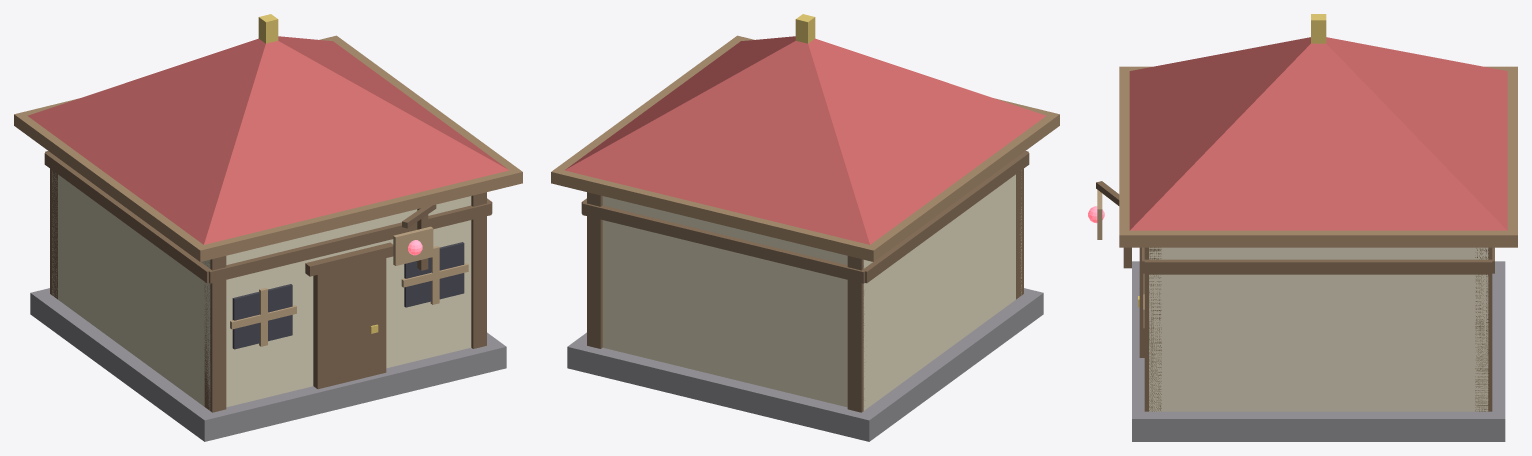
File: shop_building.glb
3 renders of one model, left to right at view 1: azimuth 30°, elevation 25°; view 2: azimuth 150°, elevation 25°; view 3: azimuth 270°, elevation 25°, orthographic. The views are drawn at different scales.
Parts seen in each view (by area): view 1: shop_building_20, shop_building_01, shop_building_00, shop_building_19, shop_building_10, shop_building_06, shop_building_02, shop_building_08, shop_building_13, shop_building_04, shop_building_16, shop_building_12 (+6 smaller); view 2: shop_building_20, shop_building_01, shop_building_00, shop_building_19, shop_building_07, shop_building_08, shop_building_03, shop_building_05, shop_building_02, shop_building_21; view 3: shop_building_20, shop_building_01, shop_building_00, shop_building_19, shop_building_09, shop_building_04, shop_building_05, shop_building_10, shop_building_21.
Boxes of the visible parts, x1=… form: shop_building_20: x1=27, y1=36, x2=509, y2=244; shop_building_01: x1=52, y1=171, x2=471, y2=410; shop_building_00: x1=30, y1=288, x2=506, y2=441; shop_building_19: x1=14, y1=35, x2=522, y2=261; shop_building_10: x1=313, y1=258, x2=386, y2=389; shop_building_06: x1=209, y1=202, x2=491, y2=283; shop_building_02: x1=204, y1=256, x2=226, y2=412; shop_building_08: x1=44, y1=152, x2=211, y2=283; shop_building_13: x1=232, y1=284, x2=292, y2=349; shop_building_04: x1=471, y1=192, x2=486, y2=348; shop_building_16: x1=404, y1=242, x2=464, y2=307; shop_building_12: x1=305, y1=242, x2=393, y2=276; shop_building_20: x1=564, y1=36, x2=1046, y2=244; shop_building_01: x1=602, y1=170, x2=1021, y2=410; shop_building_00: x1=567, y1=288, x2=1043, y2=441; shop_building_19: x1=551, y1=35, x2=1059, y2=261; shop_building_07: x1=582, y1=202, x2=864, y2=283; shop_building_08: x1=862, y1=152, x2=1029, y2=283; shop_building_03: x1=847, y1=256, x2=864, y2=412; shop_building_05: x1=587, y1=192, x2=602, y2=348; shop_building_02: x1=1016, y1=168, x2=1023, y2=299; shop_building_21: x1=795, y1=14, x2=815, y2=43; shop_building_20: x1=1129, y1=37, x2=1507, y2=230; shop_building_01: x1=1149, y1=247, x2=1488, y2=411; shop_building_00: x1=1132, y1=261, x2=1505, y2=441; shop_building_19: x1=1119, y1=66, x2=1517, y2=247; shop_building_09: x1=1144, y1=259, x2=1492, y2=274; shop_building_04: x1=1144, y1=247, x2=1161, y2=411; shop_building_05: x1=1475, y1=247, x2=1492, y2=411; shop_building_10: x1=1139, y1=247, x2=1144, y2=357; shop_building_21: x1=1311, y1=14, x2=1326, y2=43.
Size of the model in its own units: 4.7 by 4.5 by 5.07.
